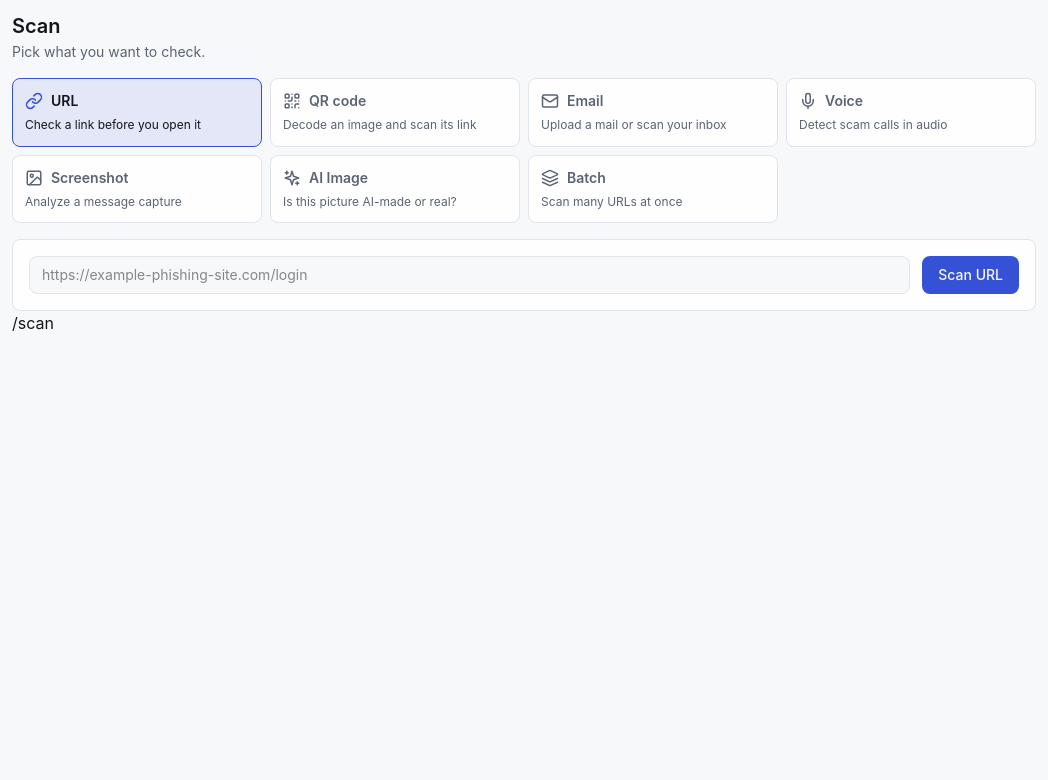
(b) a FreeLimitError renders FreeLimitCard instead of a result
In the field named "url to scan": point(470, 275) [29, 256, 910, 294], type "https://example.com"
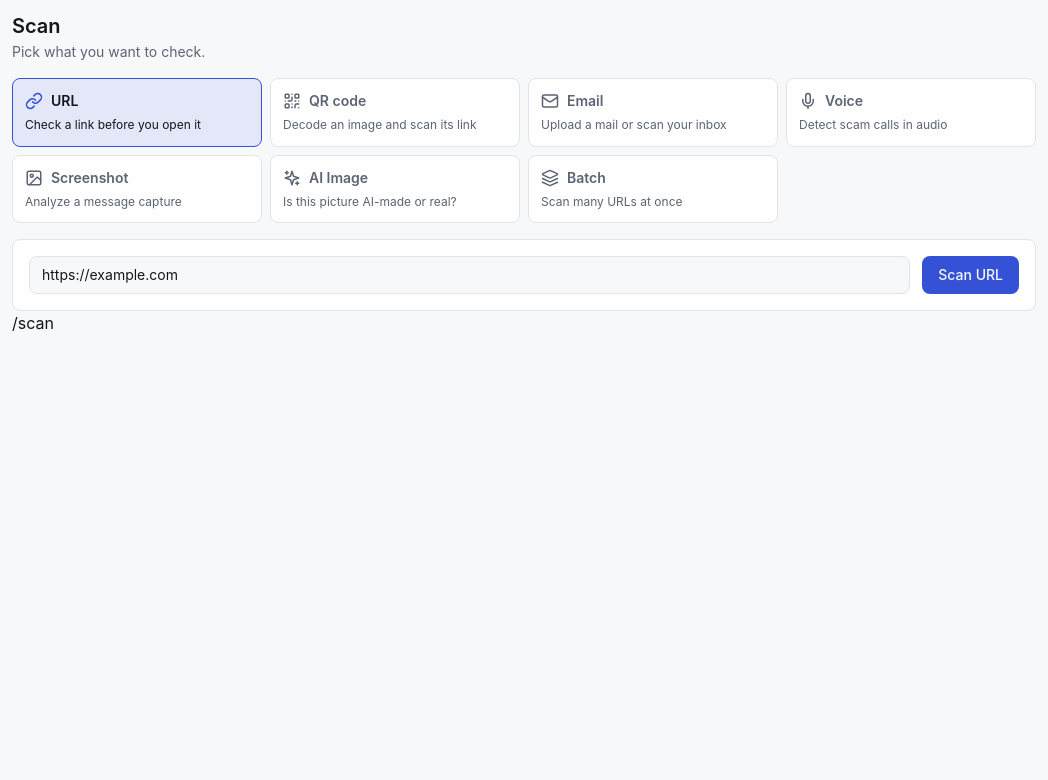
Click the button "Scan URL": point(971, 275) [922, 256, 1019, 294]
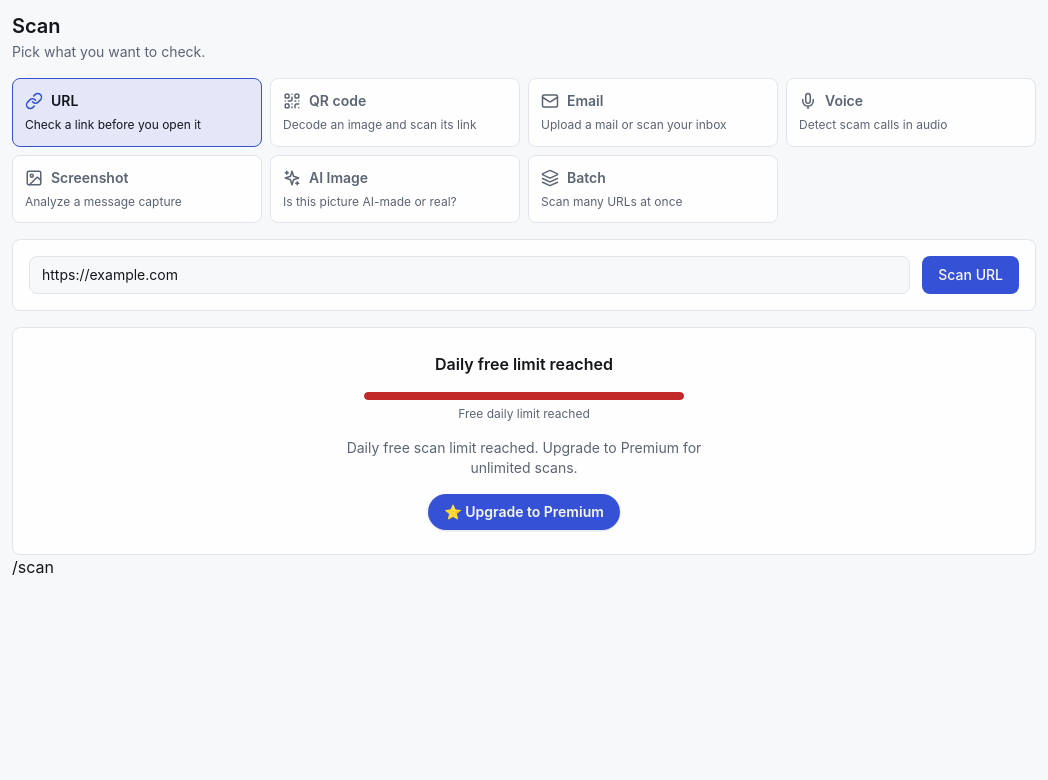
expect the text "Daily free limit reached" is shown: met, box [435, 354, 613, 374]
expect the text "Upgrade to Premium for unlimited scans" is shown: met, box [347, 439, 701, 476]
